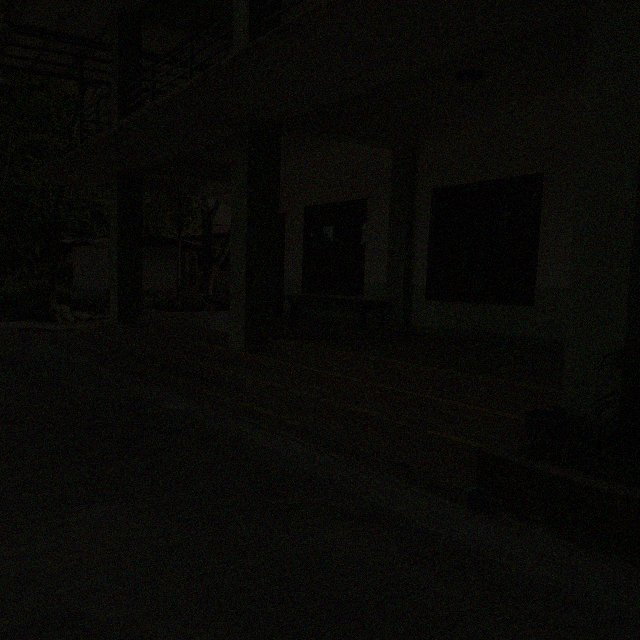stair: (53, 314, 562, 511)
